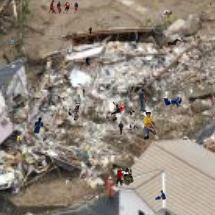Human: (68, 103, 98, 121), (139, 88, 160, 112), (48, 0, 80, 14), (143, 112, 157, 140), (115, 167, 134, 186), (111, 100, 127, 116), (162, 96, 185, 107), (168, 37, 189, 47), (33, 117, 44, 136), (118, 121, 132, 135), (7, 36, 15, 54), (155, 190, 166, 200), (15, 134, 22, 145), (106, 115, 117, 121), (133, 120, 139, 130), (85, 57, 91, 66), (58, 96, 67, 101), (128, 109, 135, 115), (88, 27, 92, 34), (43, 137, 47, 142), (83, 89, 85, 94), (16, 44, 18, 49), (183, 138, 188, 140), (210, 2, 212, 7)
